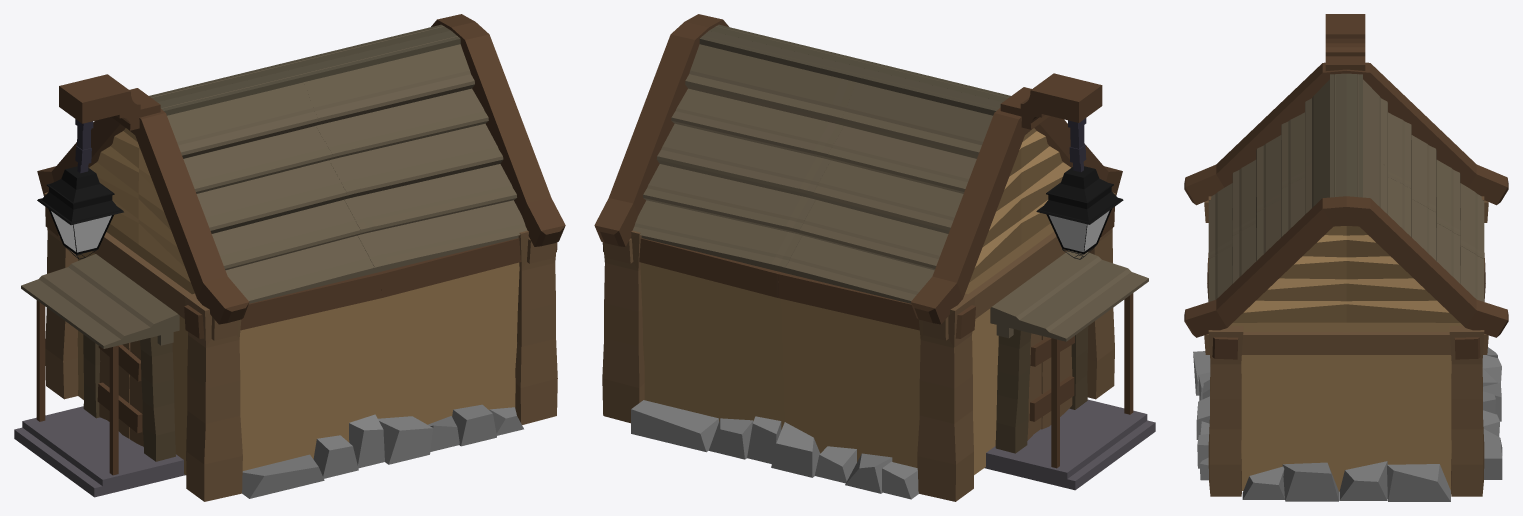
Rendered from casa 4 com porta.fbx.
The picture shows the model from 3 angles, left to right: view 1: azimuth 30°, elevation 25°; view 2: azimuth 150°, elevation 25°; view 3: azimuth 270°, elevation 25°; orthographic projection. The views are drawn at different scales.
Parts seen in each view (by area): view 1: casa.009, porta.006, pedras.009, madeira porta.005, negocinho feio.003, porta.008, negocinho feio.029, negocinho feio.028; view 2: casa.009, porta.006, pedras.009, madeira porta.005, negocinho feio.003, porta.008, negocinho feio.029, negocinho feio.028; view 3: casa.009, pedras.009, negocinho feio.003.
Part boxes in pixels (x1,y1,x2,y2): casa.009: [37, 14, 565, 501]; porta.006: [14, 254, 185, 497]; pedras.009: [242, 404, 523, 498]; madeira porta.005: [83, 334, 175, 461]; negocinho feio.003: [59, 74, 160, 173]; porta.008: [97, 340, 143, 446]; negocinho feio.029: [37, 166, 123, 225]; negocinho feio.028: [51, 211, 111, 252]; casa.009: [594, 14, 1122, 501]; porta.006: [984, 250, 1155, 490]; pedras.009: [631, 400, 919, 499]; madeira porta.005: [995, 326, 1088, 453]; negocinho feio.003: [1000, 73, 1102, 172]; porta.008: [1027, 333, 1074, 440]; negocinho feio.029: [1036, 166, 1123, 224]; negocinho feio.028: [1049, 210, 1109, 251]; casa.009: [1184, 62, 1508, 496]; pedras.009: [1193, 347, 1502, 501]; negocinho feio.003: [1325, 14, 1365, 70].
Bounding box in the file's own units: 4775 × 3765 × 3527.
